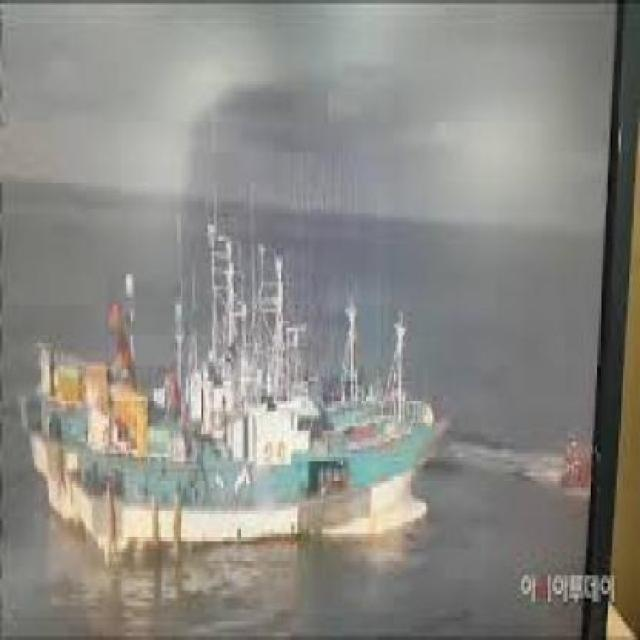fish-b: (5, 214, 452, 588)
